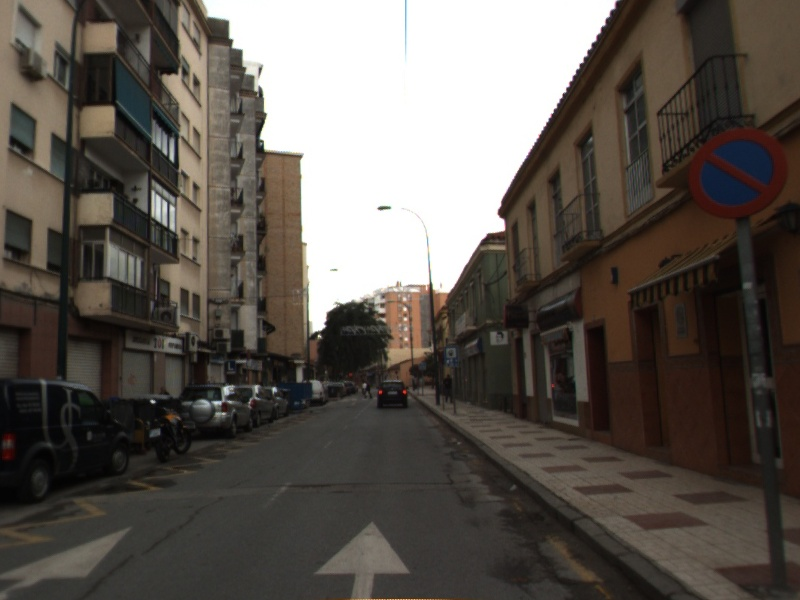STRAIGHT: (1, 521, 137, 600), (309, 518, 416, 600)
